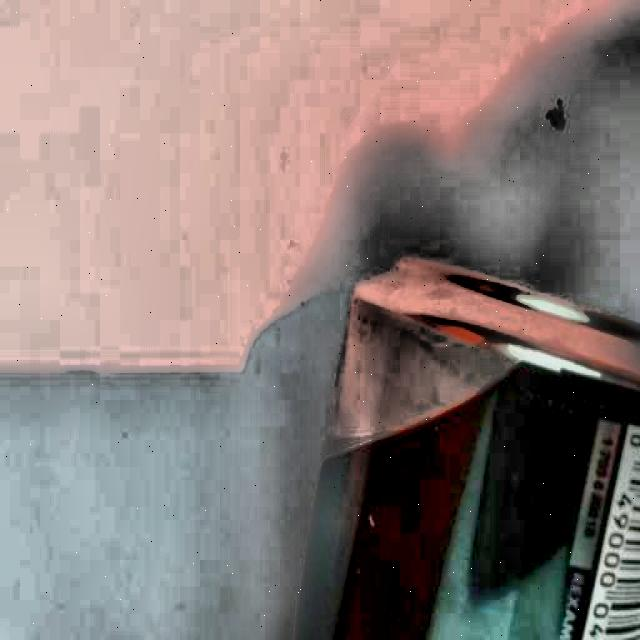metal: (308, 249, 640, 640)
